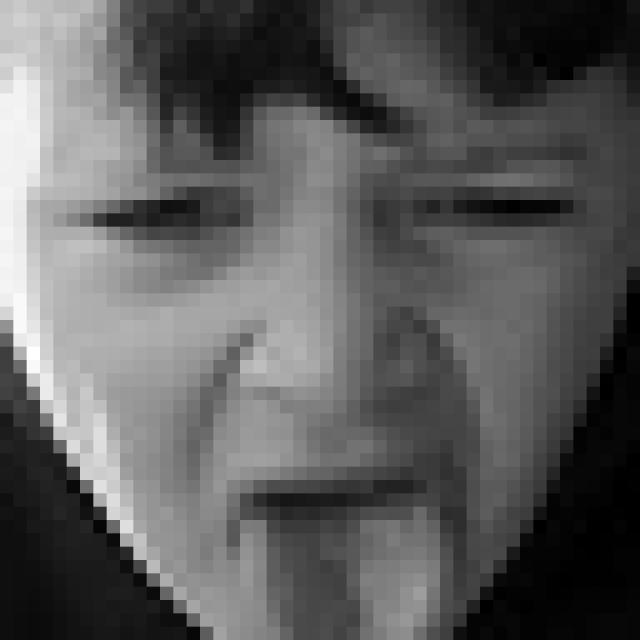disgust: (64, 145, 587, 640)
